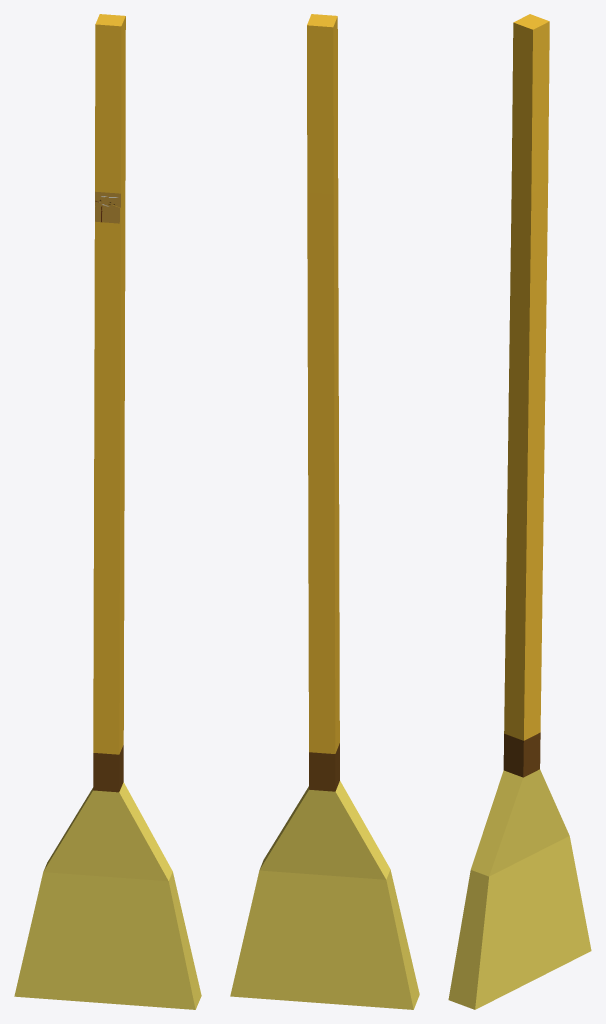
File: ZoeBroom.fbx
The picture shows the model from 3 angles, left to right: view 1: azimuth 30°, elevation 25°; view 2: azimuth 210°, elevation 25°; view 3: azimuth 270°, elevation 25°; orthographic projection. The views are drawn at different scales.
Parts seen in each view (by area): view 1: Cube.002; view 2: Cube.002; view 3: Cube.002.
Boxes of the visible parts, left/top/right/bottom form: Cube.002: left=14, top=14, right=201, bottom=1009; Cube.002: left=230, top=14, right=419, bottom=1009; Cube.002: left=448, top=14, right=591, bottom=1009.
Bounding box in the file's own units: 51.54 × 337 × 45.59.
Materials: 1 (1 with a texture image).
